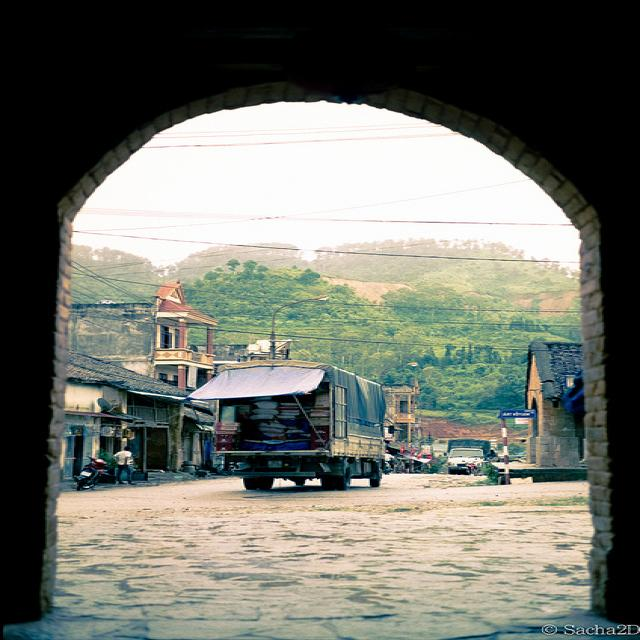motor: (71, 454, 109, 492)
